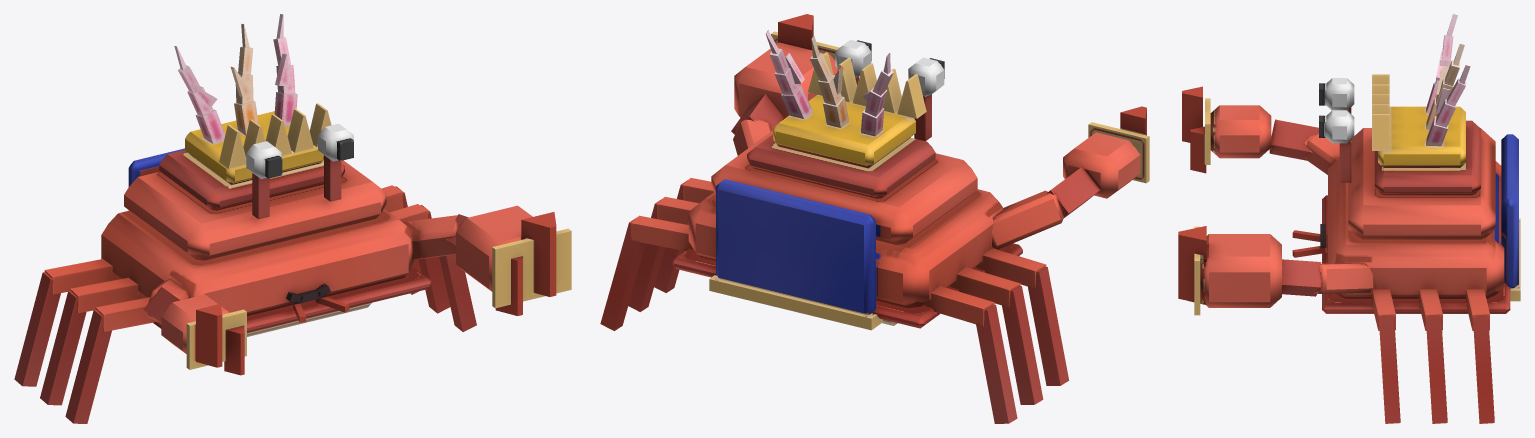
File: RoiCorail_Rig.fbx
3 views of the same model, side by side, from view 1: azimuth 30°, elevation 25°; view 2: azimuth 150°, elevation 25°; view 3: azimuth 270°, elevation 25° (orthographic). The views are drawn at different scales.
Parts seen in each view (by area): view 1: Body, ArmL, ArmR, Leg2R, Leg1R, Leg0R, Eye1, Eye0, Leg0L, Leg1L, Leg2L; view 2: Body, ArmR, ArmL, Leg2R, Leg1R, Leg0R, Leg2L, Leg1L, Eye1, Leg0L, Eye0; view 3: Body, ArmL, ArmR, Leg0L, Leg1L, Leg2L, Eye0, Eye1.
Boxes of the visible parts, x1=… form: Body: x1=101, y1=14, x2=431, y2=336; ArmL: x1=402, y1=205, x2=571, y2=315; ArmR: x1=143, y1=278, x2=246, y2=375; Leg2R: x1=14, y1=259, x2=117, y2=386; Leg1R: x1=40, y1=277, x2=143, y2=405; Leg0R: x1=65, y1=297, x2=157, y2=423; Eye1: x1=246, y1=141, x2=282, y2=219; Eye0: x1=318, y1=123, x2=353, y2=201; Leg0L: x1=439, y1=254, x2=476, y2=331; Leg1L: x1=390, y1=204, x2=450, y2=313; Leg2L: x1=381, y1=185, x2=421, y2=294; Body: x1=672, y1=30, x2=1022, y2=330; ArmR: x1=992, y1=106, x2=1149, y2=249; ArmL: x1=731, y1=14, x2=839, y2=155; Leg2R: x1=924, y1=286, x2=1017, y2=423; Leg1R: x1=950, y1=267, x2=1043, y2=404; Leg0R: x1=976, y1=248, x2=1068, y2=385; Leg2L: x1=600, y1=215, x2=693, y2=330; Leg1L: x1=628, y1=196, x2=698, y2=311; Eye1: x1=908, y1=57, x2=944, y2=141; Leg0L: x1=654, y1=178, x2=713, y2=292; Eye0: x1=835, y1=39, x2=871, y2=85; Body: x1=1292, y1=14, x2=1520, y2=313; ArmL: x1=1178, y1=226, x2=1372, y2=315; ArmR: x1=1182, y1=86, x2=1339, y2=174; Leg0L: x1=1371, y1=289, x2=1400, y2=423; Leg1L: x1=1418, y1=289, x2=1447, y2=423; Leg2L: x1=1466, y1=289, x2=1494, y2=423; Eye0: x1=1319, y1=110, x2=1354, y2=182; Eye1: x1=1319, y1=78, x2=1354, y2=113.
Size of the model in its own units: 7.87 by 6 by 6.26.
Materials: 1 (1 with a texture image).
